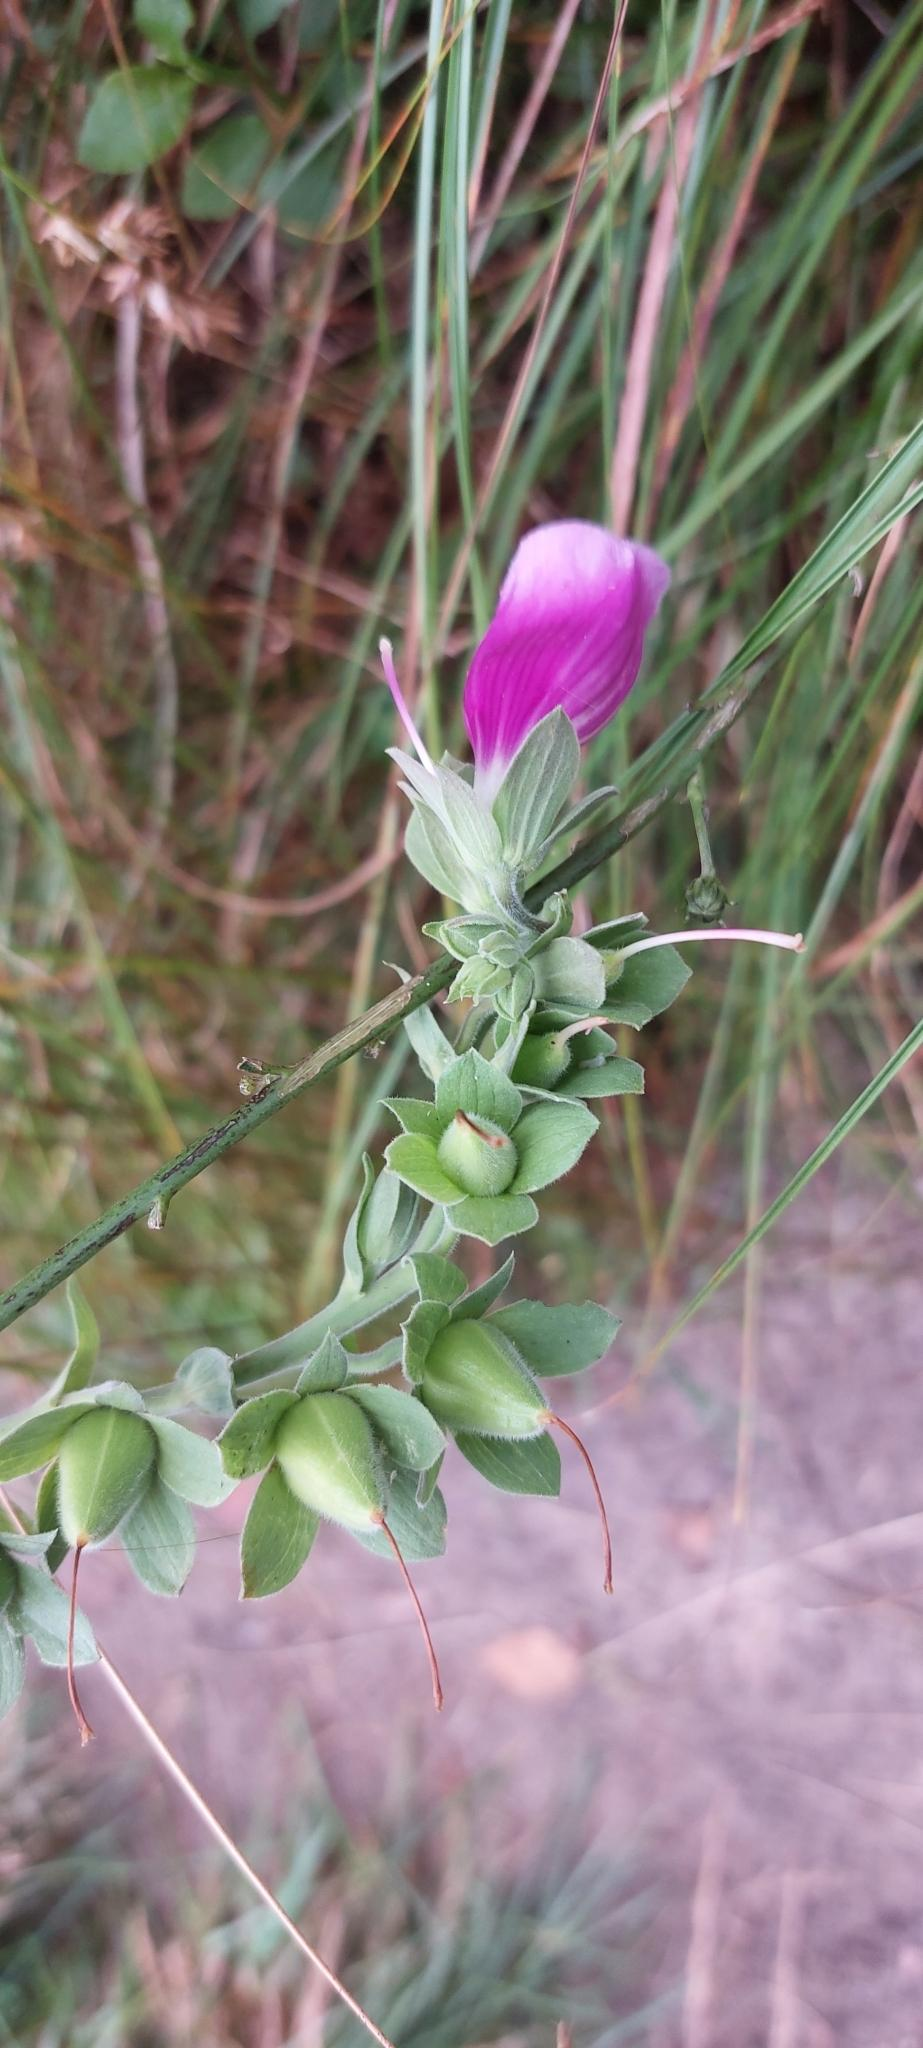Digitalis L: (38, 498, 726, 1624)
